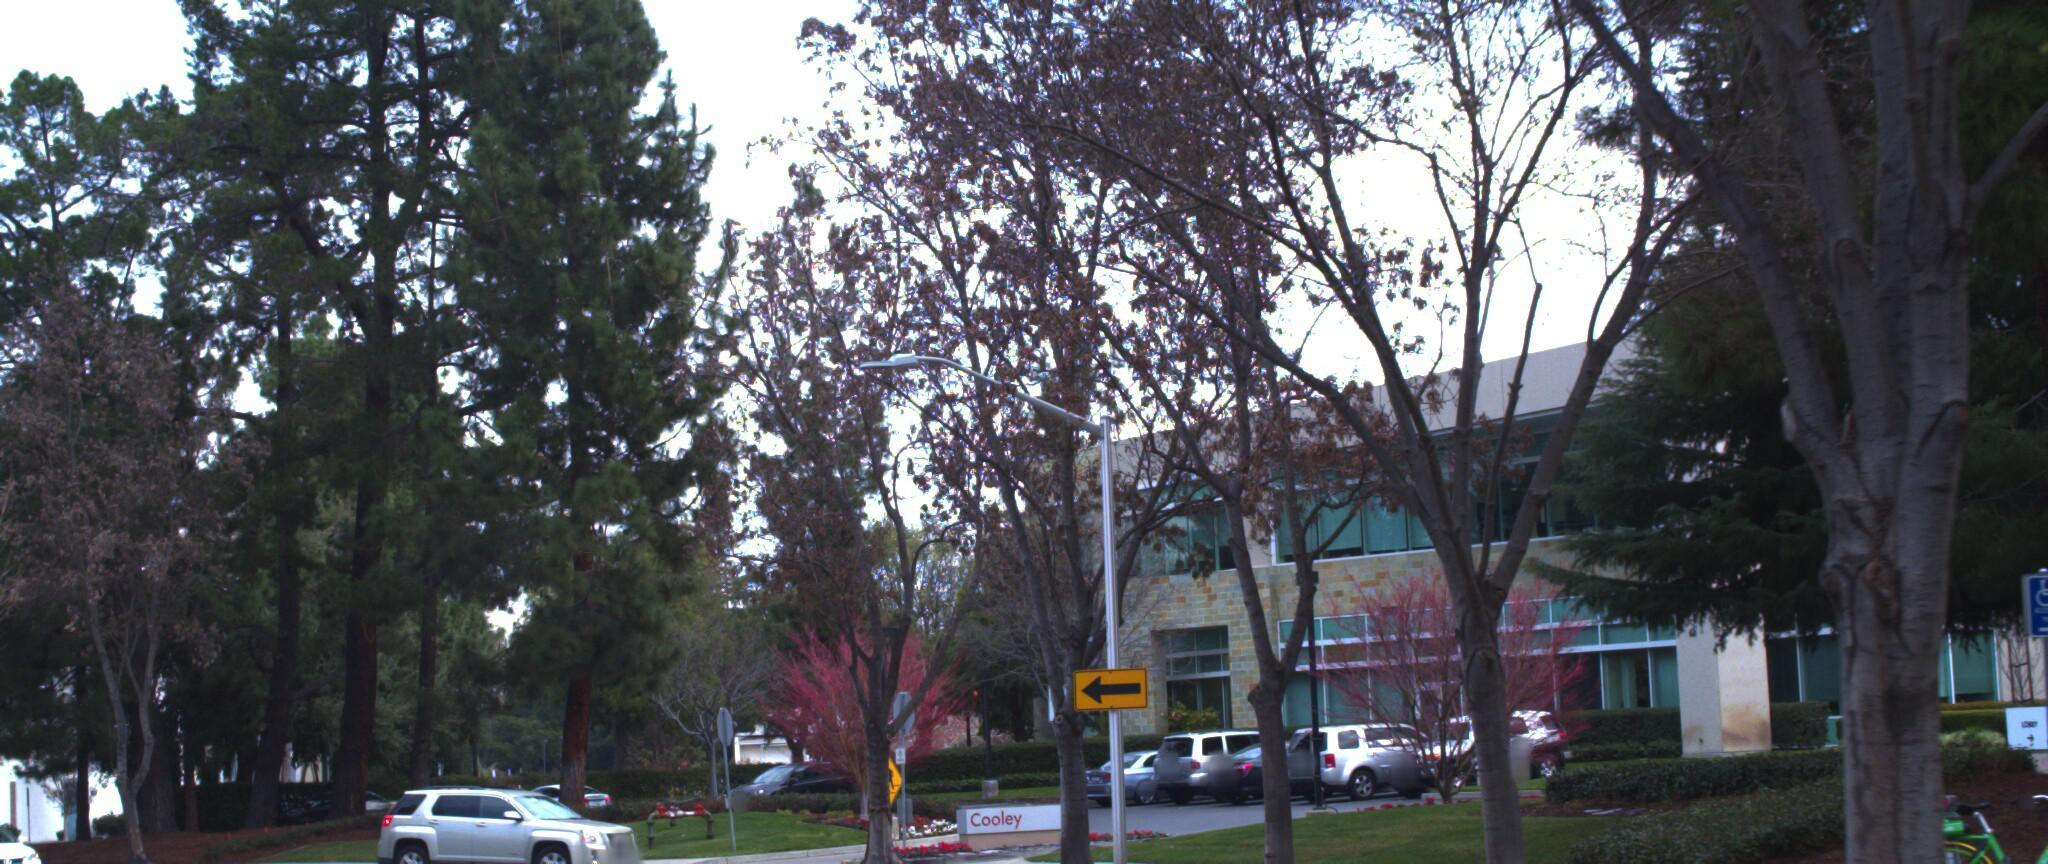bicycle: (1887, 757, 2048, 864)
car: (346, 764, 644, 864), (0, 807, 46, 864)
